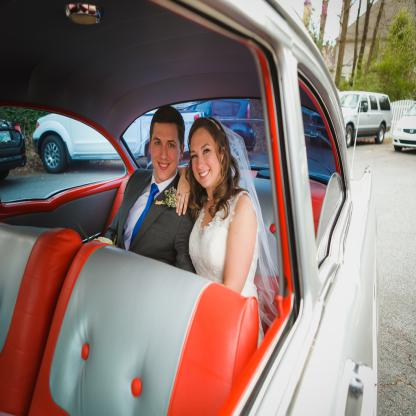Car: (0, 0, 379, 416), (33, 112, 205, 171), (311, 90, 392, 148), (185, 96, 255, 146), (0, 118, 27, 177), (390, 99, 416, 150)
